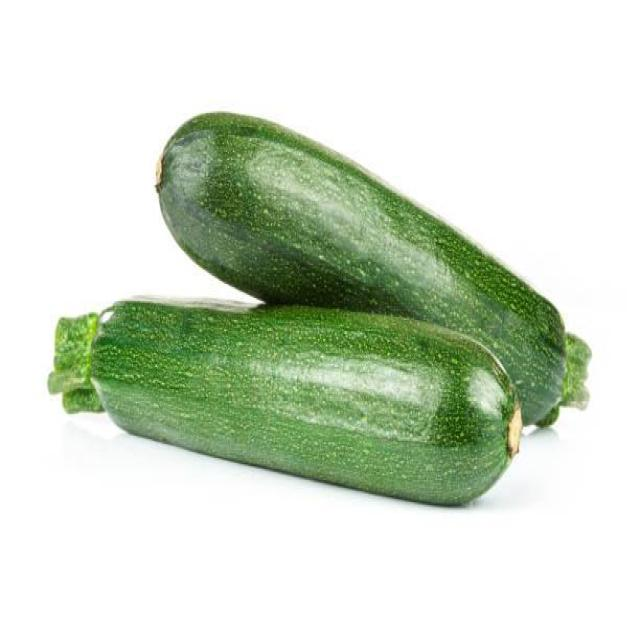Courgette: (156, 113, 589, 424), (48, 300, 521, 505)
